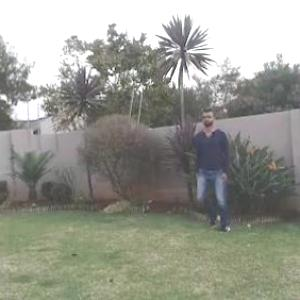follow: (196, 106, 233, 233)
